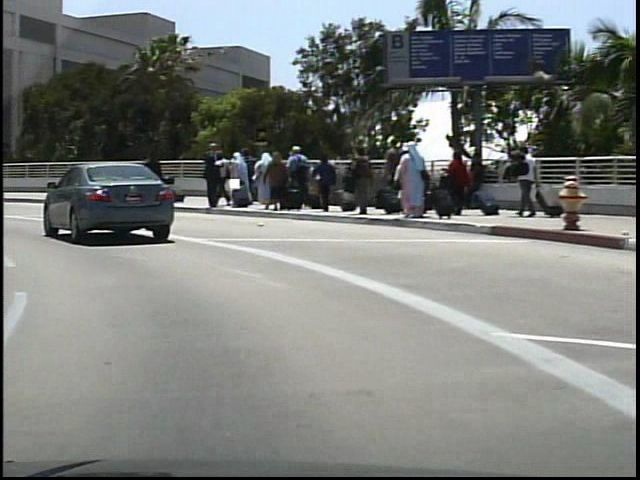person: (505, 139, 536, 223), (133, 148, 161, 212), (199, 140, 222, 216), (205, 148, 231, 209), (146, 153, 165, 196)
